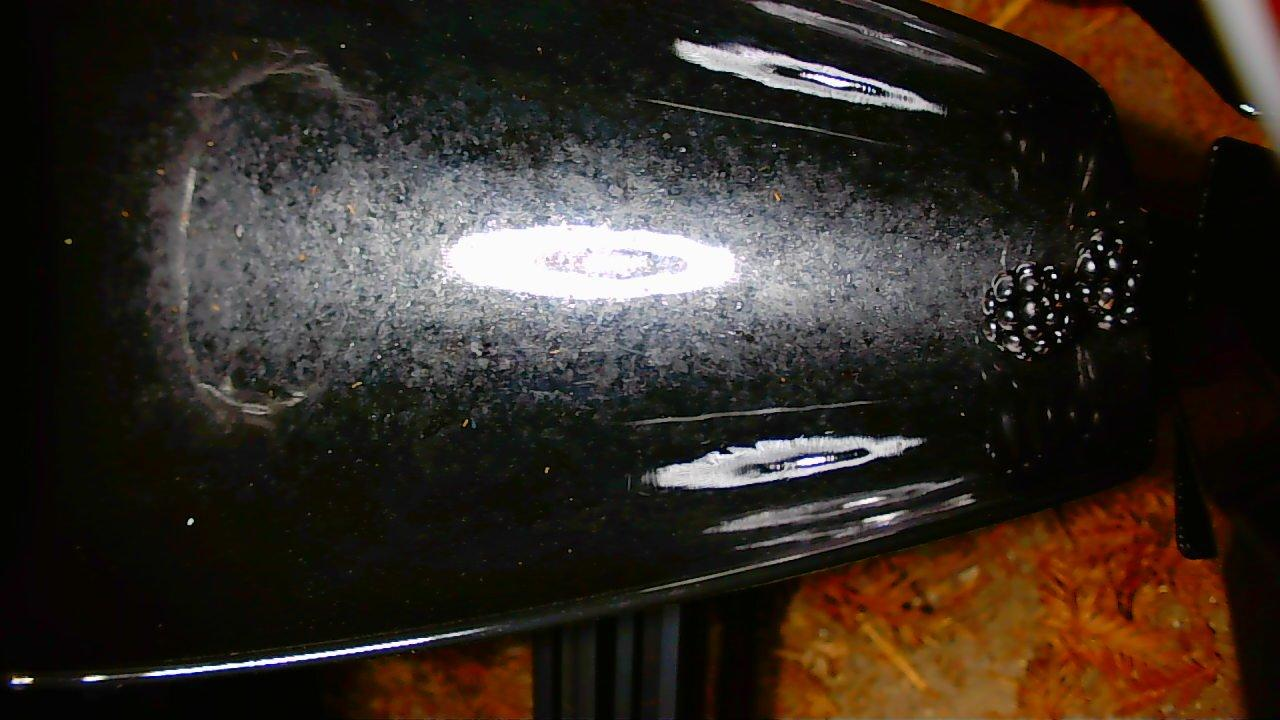berry: (983, 262, 1075, 359), (1075, 228, 1146, 329)
